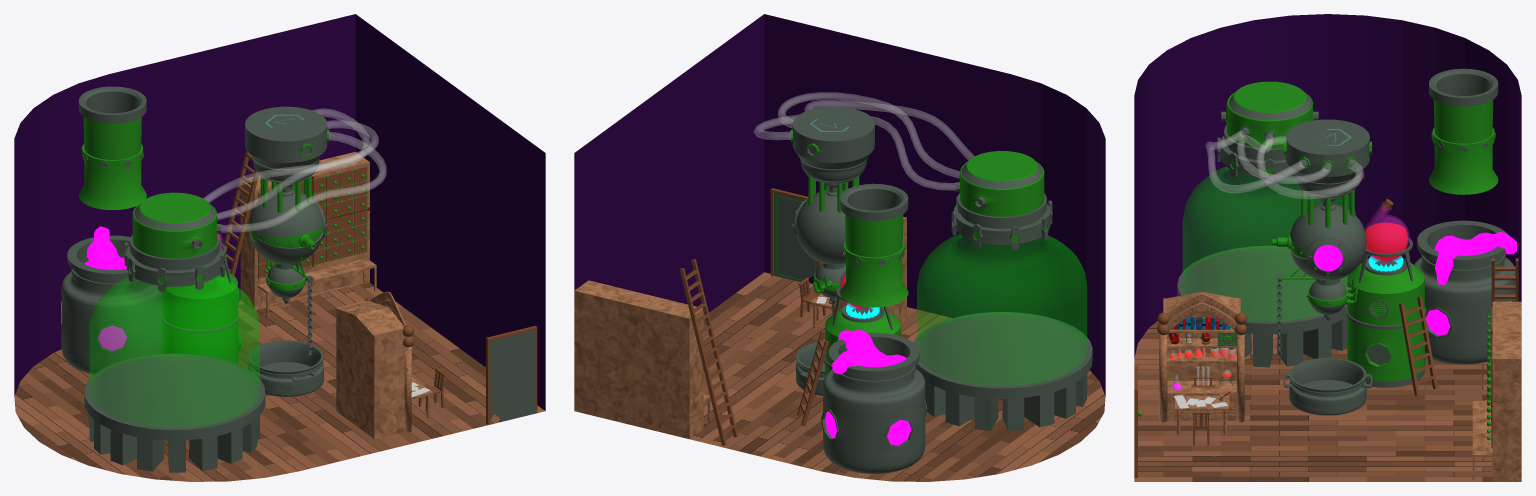
The model's file is Laboratory_Room.glb.
3 views of the same model, side by side, from view 1: azimuth 30°, elevation 25°; view 2: azimuth 150°, elevation 25°; view 3: azimuth 270°, elevation 25° (orthographic).
Parts seen in each view (by area): view 1: Room, Cuve.003, Support_Cuve, Cuve.002, Bureau, Hote, Cylinder.032, Chaud, Armoir, Cylinder.008, Rangement, Cuve.001 (+10 smaller); view 2: Room, Cuve.003, Support_Cuve, Armoir, Cuve.002, Hote, Cylinder.032, Cylinder.008, Cuve.001, Echelle.001, Porte, Pipe.002 (+9 smaller); view 3: Room, Cuve.003, Support_Cuve, Cuve.002, Chaud, Hote, Bureau, Armoir, Cylinder.008, Cylinder.032, Cuve.001, Marmite (+16 smaller).
Part boxes in pixels (left/top/right/bottom): Room: left=14, top=14, right=545, bottom=481; Cuve.003: left=90, top=237, right=259, bottom=427; Support_Cuve: left=84, top=353, right=265, bottom=472; Cuve.002: left=61, top=235, right=162, bottom=374; Bureau: left=336, top=301, right=411, bottom=438; Hote: left=78, top=86, right=146, bottom=209; Cylinder.032: left=130, top=192, right=221, bottom=267; Chaud: left=161, top=269, right=241, bottom=364; Armoir: left=240, top=151, right=376, bottom=316; Cylinder.008: left=245, top=106, right=329, bottom=196; Rangement: left=258, top=166, right=367, bottom=278; Cuve.001: left=248, top=189, right=327, bottom=264; Room: left=574, top=14, right=1105, bottom=481; Cuve.003: left=917, top=196, right=1086, bottom=385; Support_Cuve: left=914, top=312, right=1092, bottom=430; Armoir: left=574, top=280, right=710, bottom=439; Cuve.002: left=821, top=333, right=927, bottom=473; Hote: left=840, top=183, right=908, bottom=307; Cylinder.032: left=955, top=151, right=1046, bottom=226; Cylinder.008: left=790, top=106, right=874, bottom=196; Cuve.001: left=792, top=189, right=845, bottom=264; Echelle.001: left=679, top=259, right=738, bottom=445; Porte: left=774, top=193, right=817, bottom=283; Pipe.002: left=778, top=92, right=959, bottom=178; Room: left=1134, top=14, right=1521, bottom=481; Cuve.003: left=1183, top=135, right=1355, bottom=321; Support_Cuve: left=1177, top=245, right=1347, bottom=367; Cuve.002: left=1414, top=220, right=1515, bottom=364; Chaud: left=1346, top=258, right=1426, bottom=387; Hote: left=1428, top=68, right=1498, bottom=194; Bureau: left=1159, top=291, right=1244, bottom=422; Armoir: left=1472, top=301, right=1521, bottom=481; Cylinder.008: left=1284, top=119, right=1371, bottom=210; Cylinder.032: left=1221, top=81, right=1318, bottom=158; Cuve.001: left=1272, top=204, right=1366, bottom=280; Marmite: left=1283, top=357, right=1372, bottom=415.
Bounding box in the file's own units: 5 × 3 × 4.
Materials: 23 (6 with a texture image).
